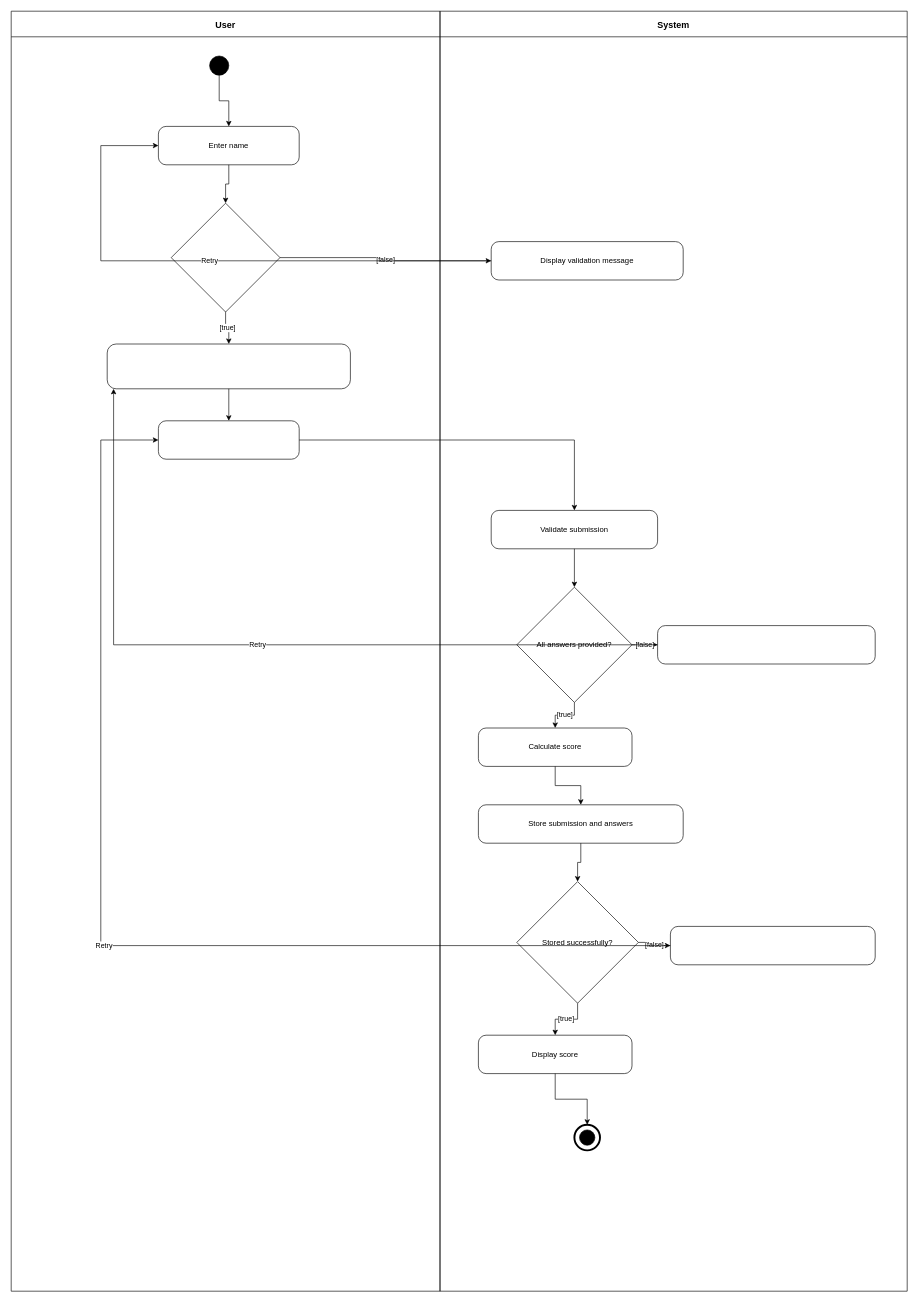
This 918x1302 diagram has some shape labels left out. The shapes that lost their labels are listed below. From the top down, each one's centre as x and y in pixels, then its label:
At point (225, 257): "Name valid?".
At point (228, 366): "Select answers for all questions".
At point (228, 439): "Click Submit".
At point (766, 644): "Prompt to complete unanswered questions".
At point (772, 945): "Display submission error message".
